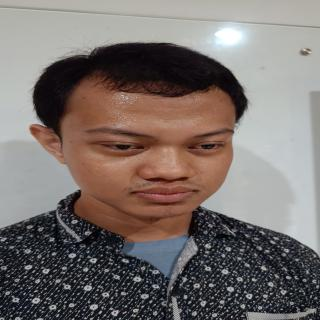Sedih: (57, 80, 249, 225)
